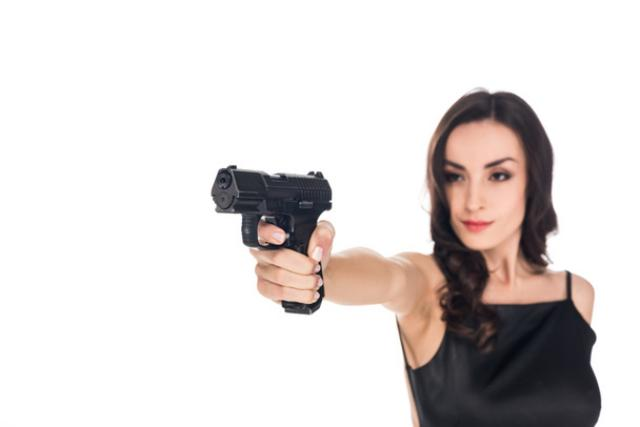handgun: (208, 162, 336, 320)
